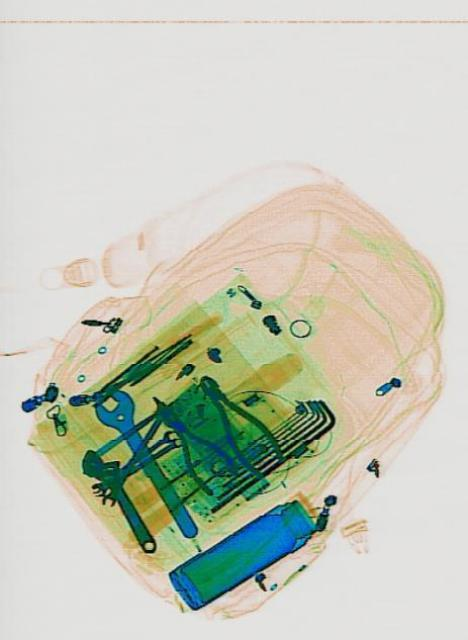Pliers: (186, 358, 288, 488), (137, 376, 239, 504)
Wrench: (87, 376, 206, 552), (75, 434, 166, 560)
